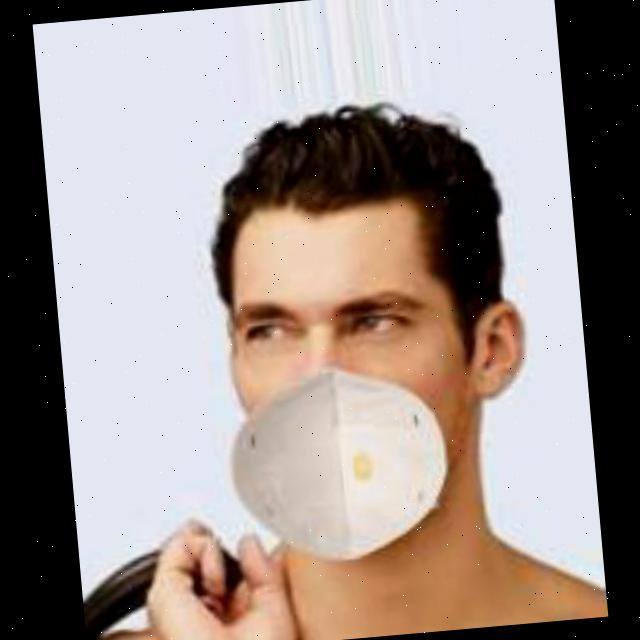suspicion: (155, 128, 555, 532)
